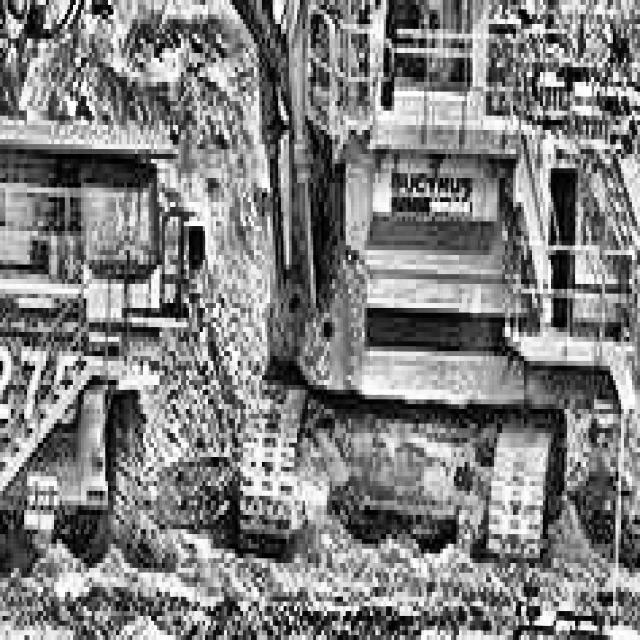dump_truck: (0, 67, 192, 611)
excavator: (0, 0, 640, 568)
